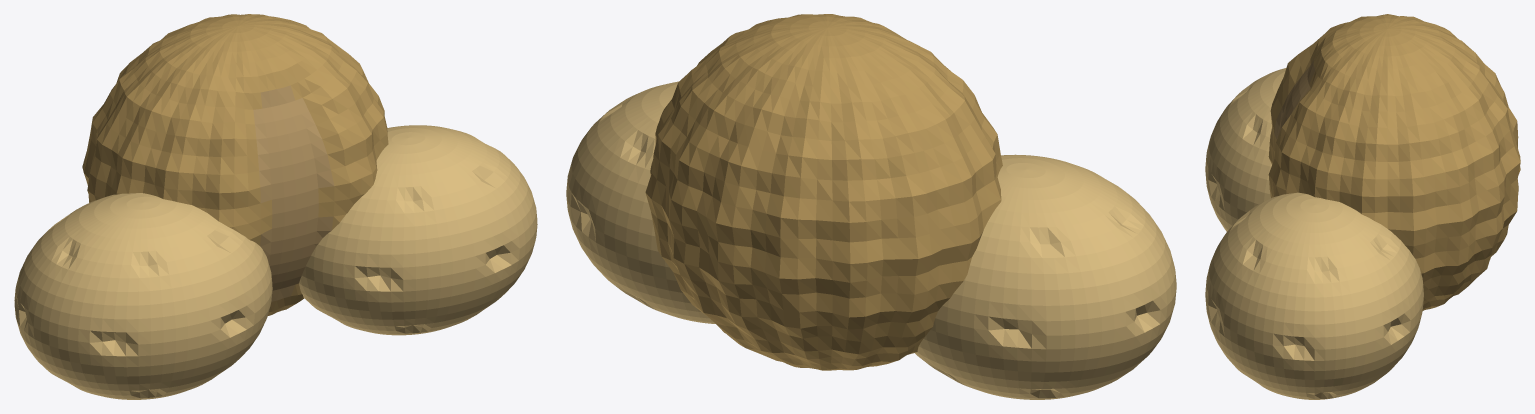
3 views of the same model, side by side, from view 1: azimuth 30°, elevation 25°; view 2: azimuth 150°, elevation 25°; view 3: azimuth 270°, elevation 25° (orthographic). The views are drawn at different scales.
Parts seen in each view (by area): view 1: WholeRugulateCorpusWithClosedDistalLeptoma, WholeLeftFoveolateSaccus, WholeRightFoveolateSaccus; view 2: WholeRugulateCorpusWithClosedDistalLeptoma, WholeLeftFoveolateSaccus, WholeRightFoveolateSaccus; view 3: WholeRugulateCorpusWithClosedDistalLeptoma, WholeRightFoveolateSaccus, WholeLeftFoveolateSaccus.
Boxes of the visible parts, bbox=[...] form: WholeRugulateCorpusWithClosedDistalLeptoma: bbox=[82, 14, 388, 315]; WholeLeftFoveolateSaccus: bbox=[14, 193, 272, 399]; WholeRightFoveolateSaccus: bbox=[299, 125, 537, 335]; WholeRugulateCorpusWithClosedDistalLeptoma: bbox=[645, 14, 1002, 370]; WholeLeftFoveolateSaccus: bbox=[915, 154, 1176, 399]; WholeRightFoveolateSaccus: bbox=[566, 81, 715, 323]; WholeRugulateCorpusWithClosedDistalLeptoma: bbox=[1268, 14, 1520, 310]; WholeRightFoveolateSaccus: bbox=[1205, 192, 1423, 399]; WholeLeftFoveolateSaccus: bbox=[1205, 68, 1286, 231].
Size of the model in its own units: 0.1068 by 0.0615 by 0.0606.
